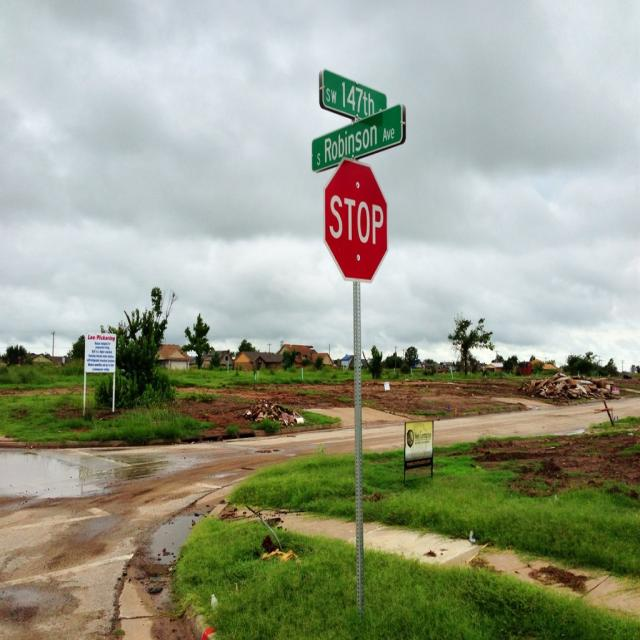Stop-sign: (322, 153, 389, 284)
